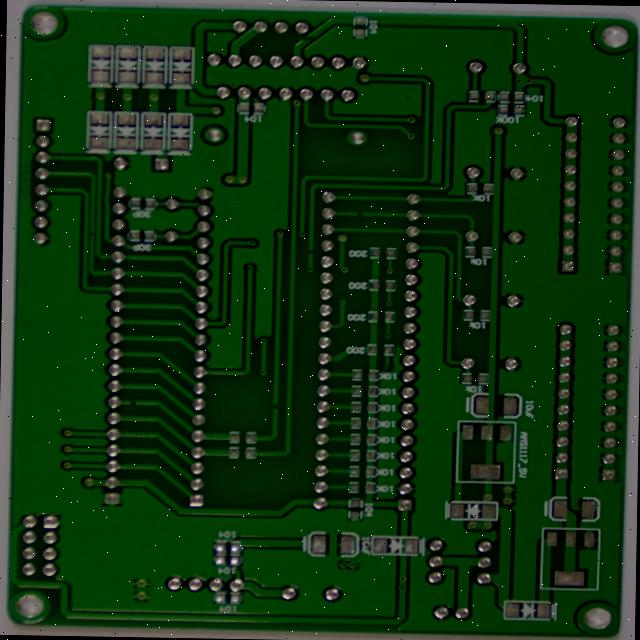open_circuit: (307, 381, 323, 394), (145, 376, 158, 389), (405, 173, 420, 183), (348, 214, 362, 224), (99, 194, 110, 204)
